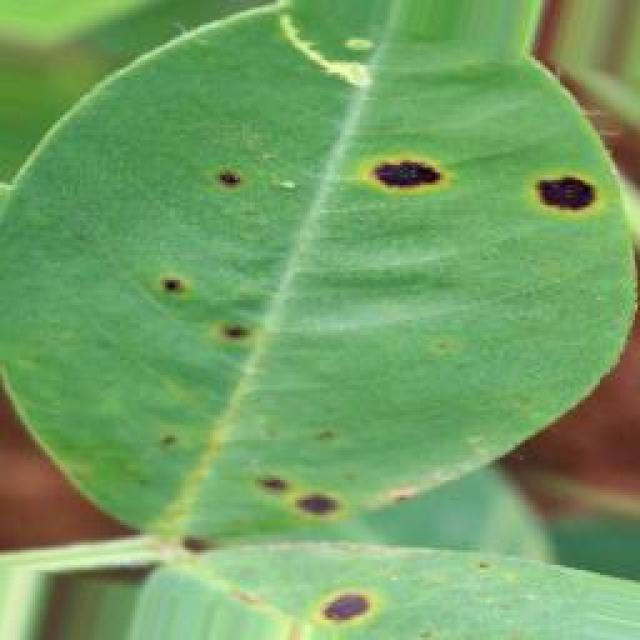Sigatoka: (354, 142, 464, 232), (239, 460, 349, 541), (515, 162, 607, 242), (296, 575, 384, 627), (192, 305, 263, 355), (149, 260, 196, 324), (206, 156, 258, 205), (383, 479, 423, 522)
